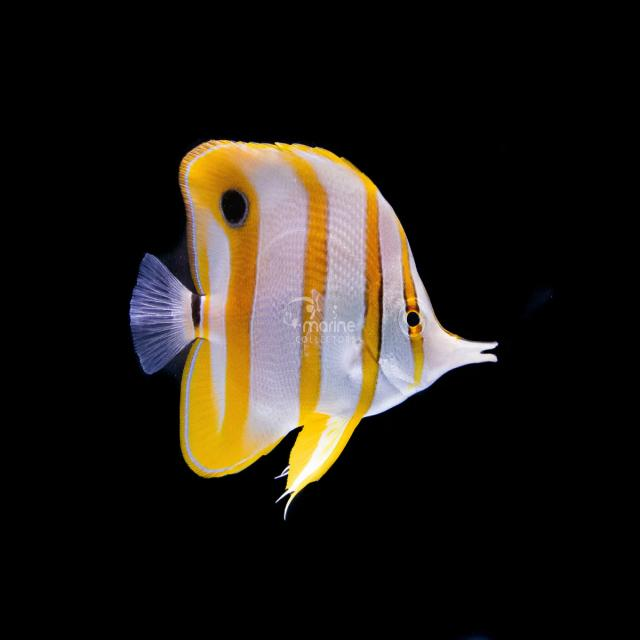ButterflyFish: (135, 141, 496, 521)
